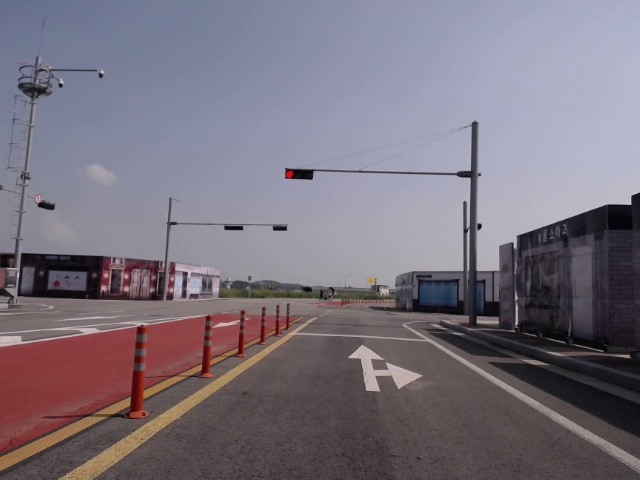red_3: (284, 169, 313, 179)
